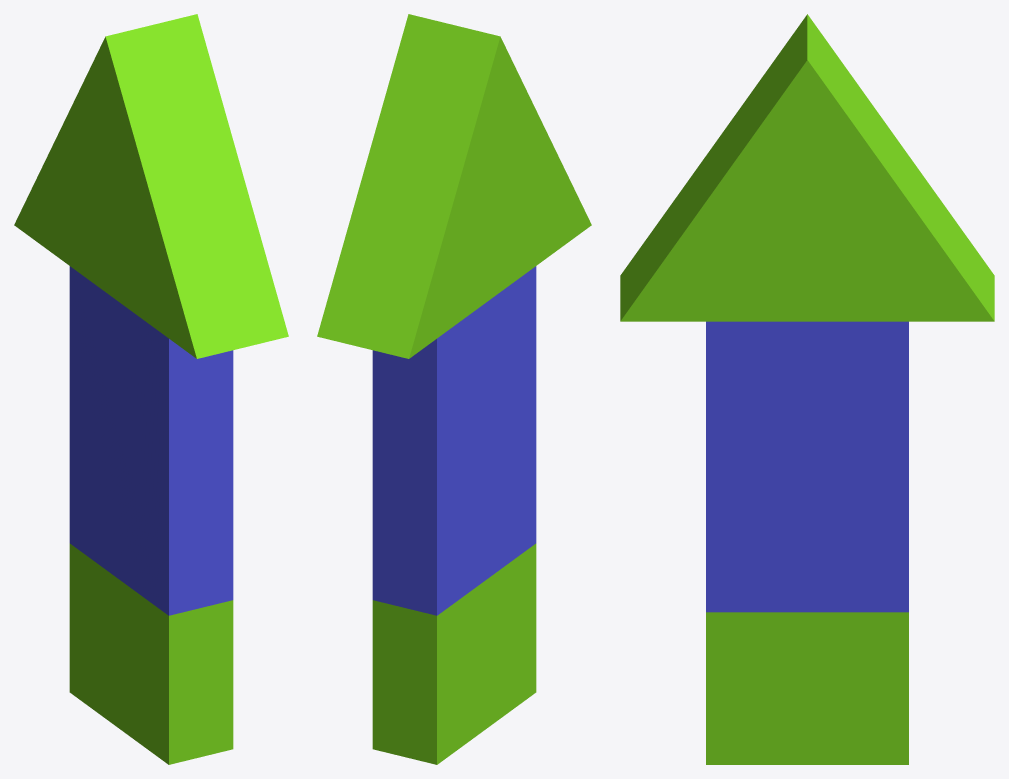
The model's file is powerUp.fbx.
3 views of the same model, side by side, from view 1: azimuth 30°, elevation 25°; view 2: azimuth 150°, elevation 25°; view 3: azimuth 270°, elevation 25° (orthographic). The views are drawn at different scales.
Parts seen in each view (by area): view 1: PowerUp; view 2: PowerUp; view 3: PowerUp.
Boxes of the visible parts, bbox=[...] form: PowerUp: bbox=[14, 14, 288, 764]; PowerUp: bbox=[317, 14, 591, 764]; PowerUp: bbox=[620, 14, 994, 764].
Size of the model in its own units: 25.67 by 186 by 88.47.
